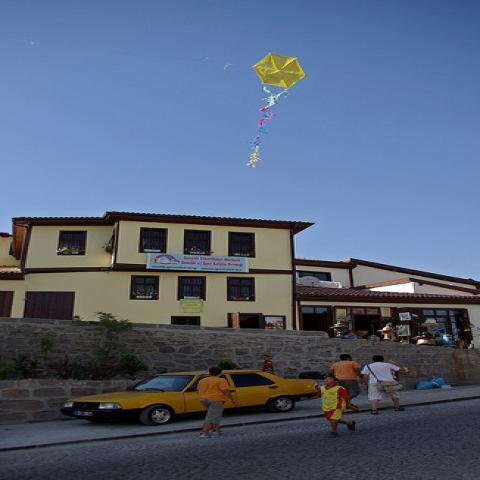car: (60, 370, 323, 426)
